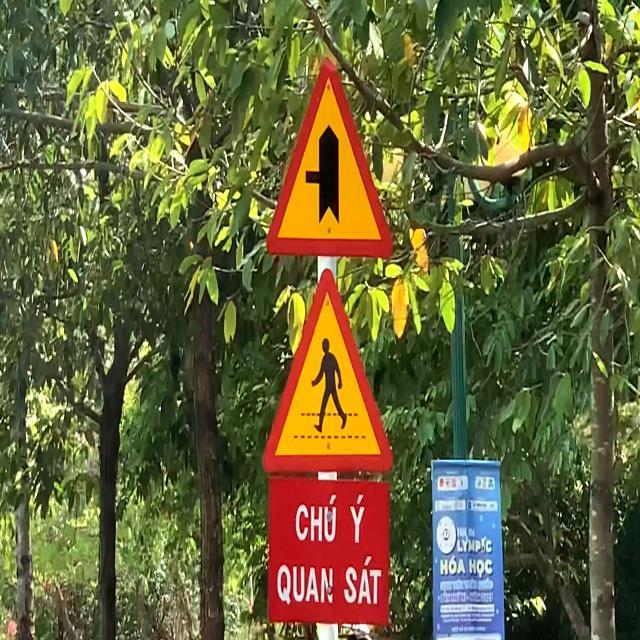W-207c: (265, 55, 392, 256)
W-224: (262, 268, 392, 473)
